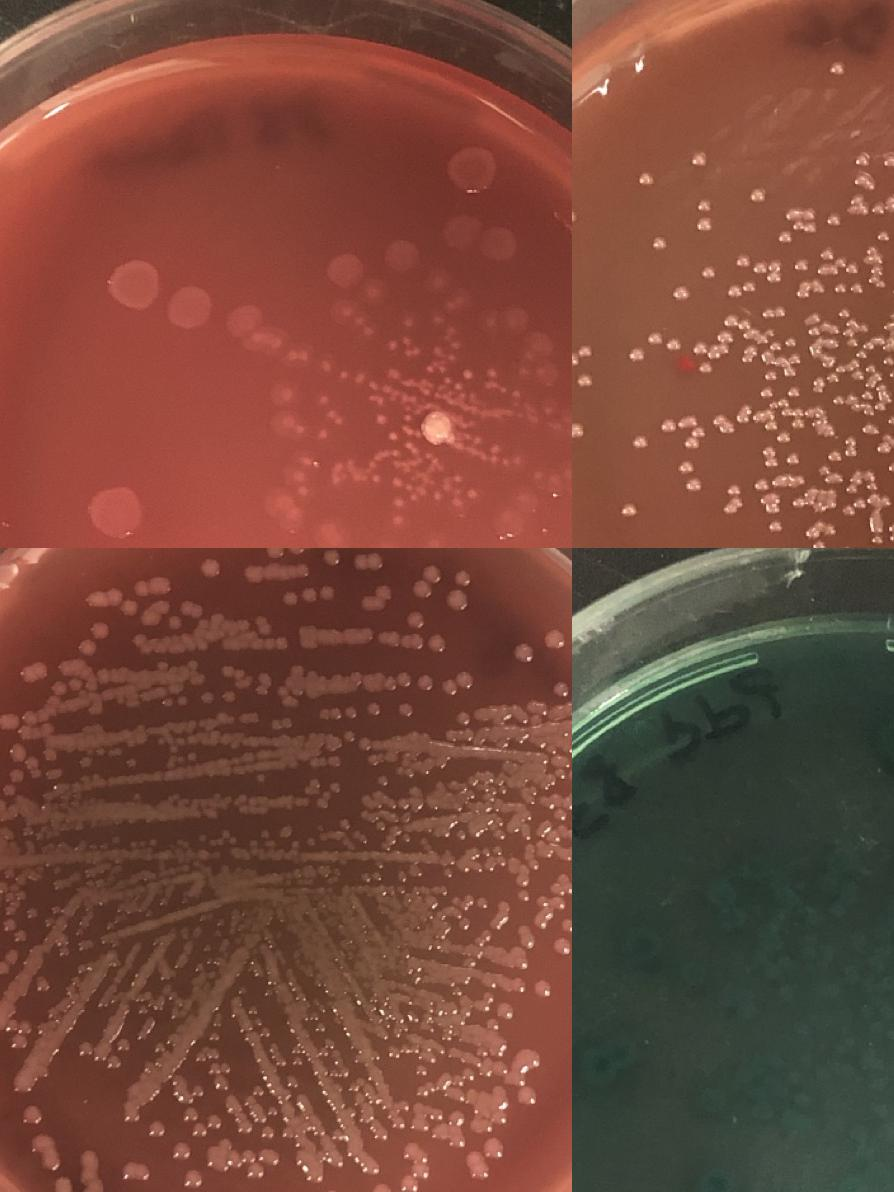assalmonicida: (842, 328, 875, 360), (842, 492, 880, 518), (786, 207, 818, 235), (753, 260, 782, 286), (866, 363, 888, 395), (724, 482, 744, 516), (752, 410, 778, 434), (808, 338, 836, 358), (728, 278, 756, 298), (685, 424, 706, 450), (724, 314, 752, 332), (805, 525, 826, 548), (784, 352, 802, 378), (855, 172, 878, 192), (762, 444, 779, 470), (834, 257, 858, 275), (714, 414, 734, 434), (864, 402, 888, 418), (844, 434, 858, 460), (762, 306, 786, 320), (873, 200, 894, 215), (832, 394, 856, 407), (736, 405, 752, 424), (805, 406, 825, 420), (826, 213, 840, 228), (870, 534, 884, 548), (622, 504, 636, 518), (765, 502, 779, 516), (792, 496, 806, 510), (755, 478, 769, 492), (687, 478, 701, 492), (818, 463, 832, 477), (786, 453, 800, 467), (827, 449, 841, 463), (633, 435, 647, 449), (864, 422, 878, 436), (662, 420, 676, 434), (787, 385, 801, 399), (760, 385, 774, 399), (698, 360, 712, 374), (744, 345, 758, 359), (709, 344, 723, 358), (784, 335, 798, 349), (718, 330, 732, 344), (648, 330, 662, 344), (809, 312, 823, 326), (837, 306, 851, 320), (674, 285, 688, 299), (834, 282, 848, 296), (850, 281, 864, 295), (798, 280, 812, 294), (794, 258, 808, 272), (866, 244, 880, 258), (652, 235, 666, 249), (877, 230, 891, 244), (778, 230, 792, 244), (698, 198, 712, 212), (776, 430, 790, 443), (693, 342, 707, 355), (667, 338, 681, 351), (886, 460, 894, 482), (770, 520, 782, 534), (771, 475, 783, 489), (680, 460, 692, 474), (877, 442, 889, 456), (792, 417, 804, 431), (777, 396, 789, 410), (862, 388, 874, 402), (630, 348, 642, 362), (702, 266, 714, 280), (736, 256, 750, 268), (698, 218, 710, 232), (752, 189, 764, 203), (639, 172, 651, 186), (886, 312, 894, 332), (846, 484, 858, 497), (580, 373, 592, 386), (764, 369, 776, 382), (852, 369, 864, 382), (822, 356, 834, 369), (770, 342, 782, 355), (834, 473, 846, 485), (813, 377, 825, 389), (827, 372, 839, 384), (579, 345, 591, 357), (858, 322, 870, 334), (875, 278, 887, 290), (821, 250, 833, 262), (851, 194, 863, 206), (856, 154, 868, 166), (693, 153, 705, 165), (831, 64, 843, 76), (572, 424, 583, 437), (884, 153, 894, 167), (883, 355, 894, 367), (886, 415, 894, 428), (889, 369, 894, 381), (572, 352, 577, 364)
pddamselae: (584, 1038, 637, 1080), (629, 928, 659, 958), (699, 1087, 729, 1116), (706, 878, 736, 906), (702, 1170, 732, 1192), (816, 873, 840, 898), (685, 962, 709, 984)
tmaritimum: (91, 488, 141, 538), (167, 284, 217, 334), (111, 260, 161, 310), (446, 143, 496, 193), (514, 328, 550, 378), (334, 303, 379, 343), (265, 487, 303, 534), (288, 453, 322, 504), (489, 506, 525, 542), (327, 253, 363, 289), (385, 239, 421, 275), (481, 228, 517, 264), (442, 212, 478, 248), (399, 312, 422, 358), (310, 519, 346, 548), (254, 325, 282, 353), (230, 306, 258, 334), (366, 378, 398, 402), (503, 306, 531, 332), (400, 393, 420, 424), (418, 360, 434, 397), (446, 322, 463, 353), (285, 345, 312, 363), (453, 382, 477, 402), (329, 463, 349, 486), (478, 452, 509, 466), (405, 484, 427, 503), (516, 489, 536, 509), (527, 466, 547, 486), (481, 312, 501, 332), (451, 290, 471, 310), (364, 283, 384, 303), (427, 270, 447, 290), (539, 396, 558, 416), (538, 364, 557, 384), (369, 538, 405, 548), (424, 530, 444, 548), (483, 380, 506, 395), (437, 364, 452, 385), (326, 409, 344, 426), (366, 452, 382, 470), (295, 420, 309, 438), (374, 410, 388, 427), (390, 514, 404, 530), (390, 474, 404, 490), (404, 442, 420, 456), (460, 366, 474, 382), (388, 366, 402, 382), (335, 366, 349, 382), (424, 452, 441, 465), (392, 495, 406, 510), (319, 358, 333, 373), (383, 338, 397, 353), (431, 312, 445, 327), (280, 414, 292, 431), (316, 428, 330, 442), (317, 392, 331, 406), (278, 388, 292, 402), (429, 342, 443, 356), (354, 370, 366, 386)
vangil: (80, 750, 233, 792), (118, 904, 204, 939), (180, 1104, 222, 1140), (243, 1070, 282, 1108), (466, 1140, 502, 1180), (33, 1134, 62, 1172), (485, 1002, 514, 1034), (414, 565, 441, 598), (400, 1162, 429, 1192), (440, 671, 474, 695), (361, 585, 392, 611), (6, 742, 36, 768), (342, 730, 372, 752), (88, 589, 122, 608), (317, 706, 358, 721), (354, 552, 385, 571), (542, 798, 566, 821), (21, 662, 48, 682), (394, 865, 424, 882), (122, 1162, 150, 1180), (251, 1016, 272, 1038), (132, 633, 152, 656), (446, 728, 476, 742), (79, 1148, 99, 1168), (173, 1140, 193, 1160), (146, 1118, 166, 1138), (22, 1105, 42, 1125), (12, 1072, 32, 1092), (104, 1052, 124, 1072), (518, 1049, 538, 1069), (76, 1038, 96, 1058), (552, 936, 572, 956), (254, 614, 272, 636), (304, 1164, 323, 1184), (532, 978, 552, 997), (184, 1170, 202, 1190), (516, 1090, 536, 1108), (9, 1034, 29, 1052), (0, 712, 18, 732), (448, 590, 466, 610), (359, 1183, 395, 1192), (247, 1162, 265, 1180), (264, 1148, 282, 1166), (552, 678, 570, 696), (395, 670, 413, 688), (515, 644, 533, 662), (168, 613, 186, 631), (152, 576, 170, 594), (53, 1176, 73, 1192), (295, 1094, 312, 1112), (520, 932, 537, 950), (546, 631, 562, 650), (455, 709, 472, 726), (373, 1126, 389, 1144), (270, 718, 294, 730), (398, 700, 414, 718), (365, 700, 381, 718), (418, 674, 434, 692), (428, 635, 444, 653), (188, 600, 204, 618), (476, 997, 492, 1014), (408, 634, 424, 651), (282, 590, 298, 607), (202, 558, 218, 575), (491, 1060, 507, 1076), (92, 622, 108, 638), (408, 612, 424, 628), (320, 586, 336, 602), (300, 586, 316, 602), (133, 580, 149, 596), (454, 570, 470, 586), (246, 566, 262, 582), (412, 1064, 428, 1079), (9, 767, 25, 782), (79, 639, 95, 654), (122, 601, 138, 616), (232, 757, 244, 776), (390, 1116, 406, 1130), (450, 1112, 466, 1126), (396, 1098, 412, 1112), (385, 1044, 401, 1058), (323, 550, 339, 564), (395, 766, 413, 778), (142, 610, 156, 625), (206, 1030, 220, 1044), (517, 888, 531, 902), (515, 874, 529, 888), (315, 796, 329, 810), (125, 756, 139, 770), (493, 830, 507, 843), (206, 1047, 220, 1059), (248, 1036, 262, 1048), (230, 1006, 244, 1018), (458, 919, 472, 931), (441, 866, 455, 878), (506, 822, 520, 834), (328, 781, 342, 793), (308, 777, 322, 789), (376, 774, 390, 786), (79, 756, 93, 768), (175, 695, 189, 707), (202, 692, 216, 704), (223, 690, 237, 702), (275, 685, 289, 697), (53, 682, 67, 694), (291, 663, 305, 675), (268, 548, 284, 558), (247, 1004, 261, 1015), (328, 756, 340, 768), (42, 748, 54, 760), (70, 678, 82, 690), (477, 898, 490, 909), (79, 1187, 99, 1192), (566, 829, 572, 842)
